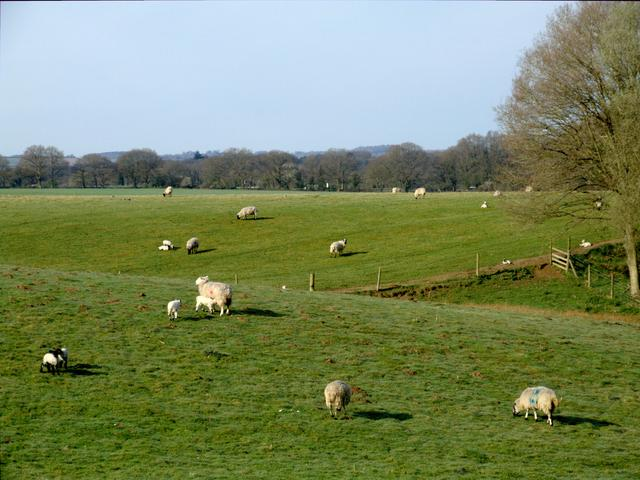sheep: (193, 273, 246, 307)
